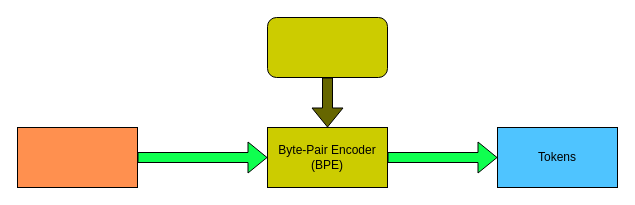
Image size: 635x205. Some labels were removed from this diagram. Here are the shapes that lost their labels. From the top down, the box of each, then its label:
(266, 16, 388, 78): Encoding Process
(16, 126, 138, 188): Text
